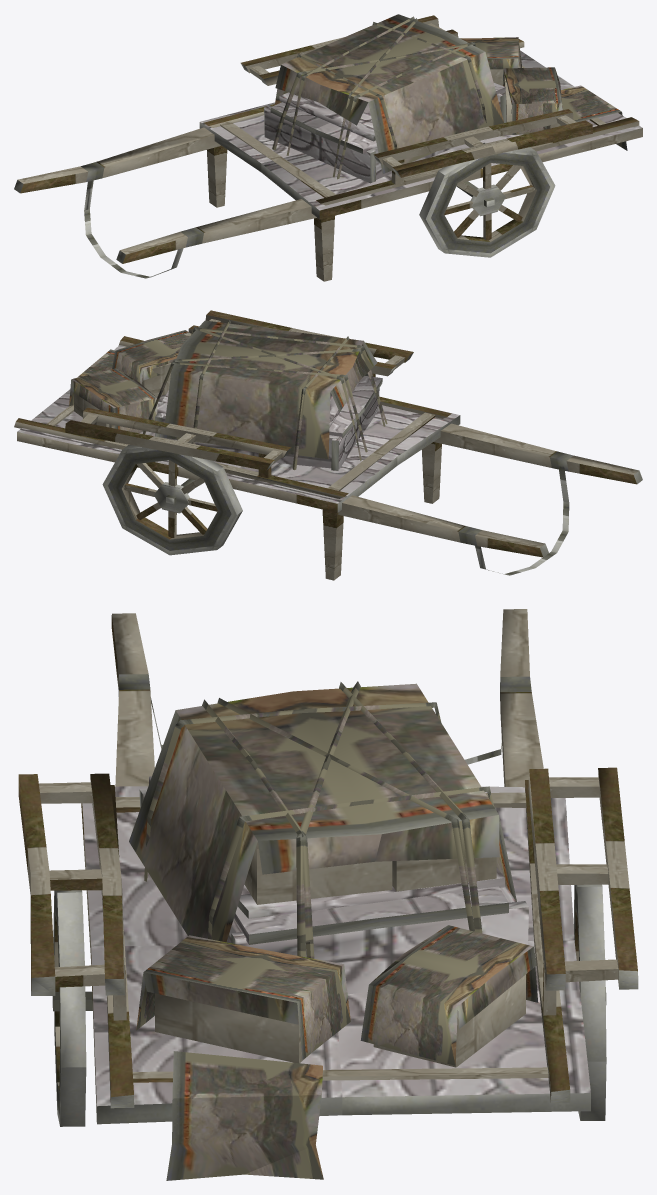
The model's file is City_bujian_11.fbx.
3 views of the same model, one above another, from view 1: azimuth 30°, elevation 25°; view 2: azimuth 150°, elevation 25°; view 3: azimuth 270°, elevation 25° (orthographic). The views are drawn at different scales.
Visible parts, largest first — view 1: City_1_2017_3_7_2:City_1_2017_3_7_2:City_1_2017_3_7:CIty_3_6; view 2: City_1_2017_3_7_2:City_1_2017_3_7_2:City_1_2017_3_7:CIty_3_6; view 3: City_1_2017_3_7_2:City_1_2017_3_7_2:City_1_2017_3_7:CIty_3_6.
Part boxes in pixels (bbox=[...]): City_1_2017_3_7_2:City_1_2017_3_7_2:City_1_2017_3_7:CIty_3_6: bbox=[14, 14, 642, 281]; City_1_2017_3_7_2:City_1_2017_3_7_2:City_1_2017_3_7:CIty_3_6: bbox=[14, 310, 642, 580]; City_1_2017_3_7_2:City_1_2017_3_7_2:City_1_2017_3_7:CIty_3_6: bbox=[18, 609, 638, 1180].
Bounding box in the file's own units: 5.9 × 1.73 × 3.03.
